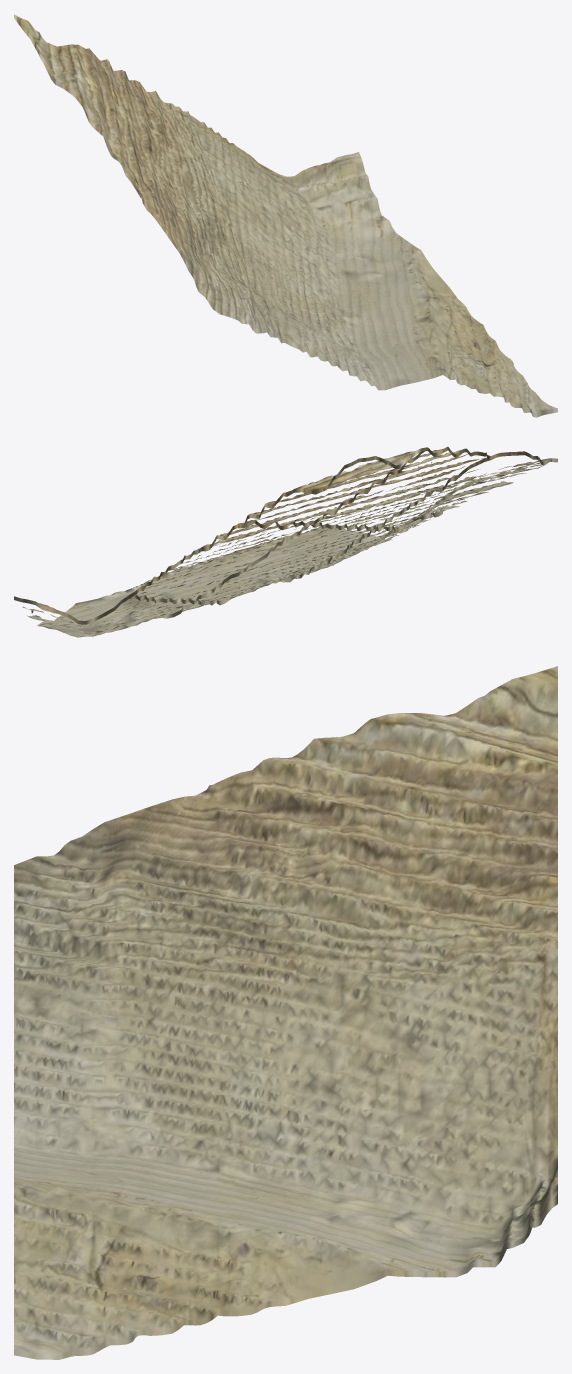
3 views of the same model, one above another, from view 1: azimuth 30°, elevation 25°; view 2: azimuth 150°, elevation 25°; view 3: azimuth 270°, elevation 25° (orthographic). The views are drawn at different scales.
Parts seen in each view (by area): view 1: l1-1-2; view 2: l1-1-2; view 3: l1-1-2.
Boxes of the visible parts, left/top/right/bottom form: l1-1-2: left=14, top=14, right=557, bottom=417; l1-1-2: left=14, top=446, right=557, bottom=637; l1-1-2: left=14, top=666, right=557, bottom=1359.
Size of the model in its own units: 768 by 723 by 768.
Materials: 1 (1 with a texture image).
